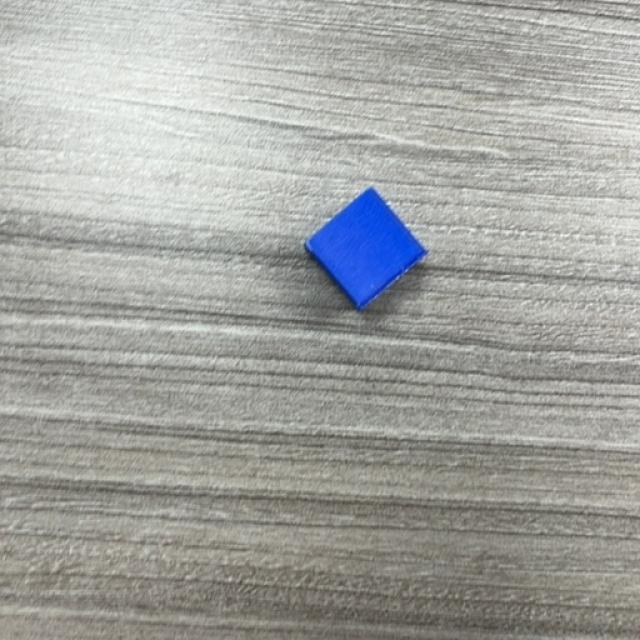Azul: (304, 188, 428, 311)
